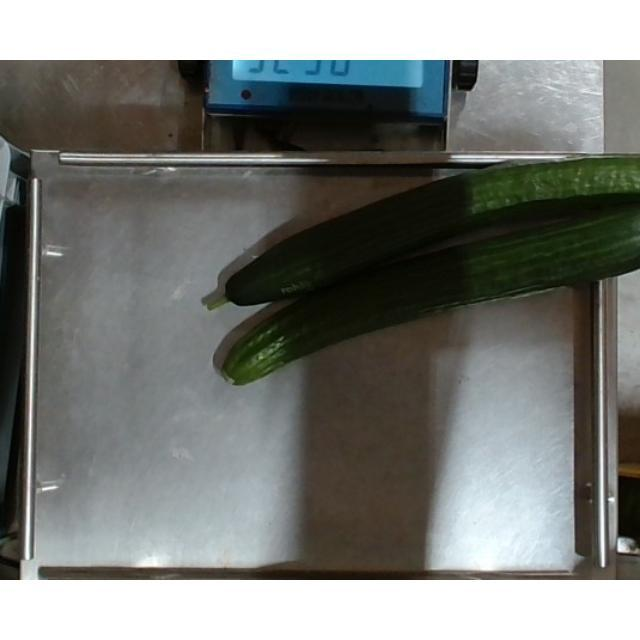cucumber: (222, 213, 640, 387), (195, 151, 640, 311)
